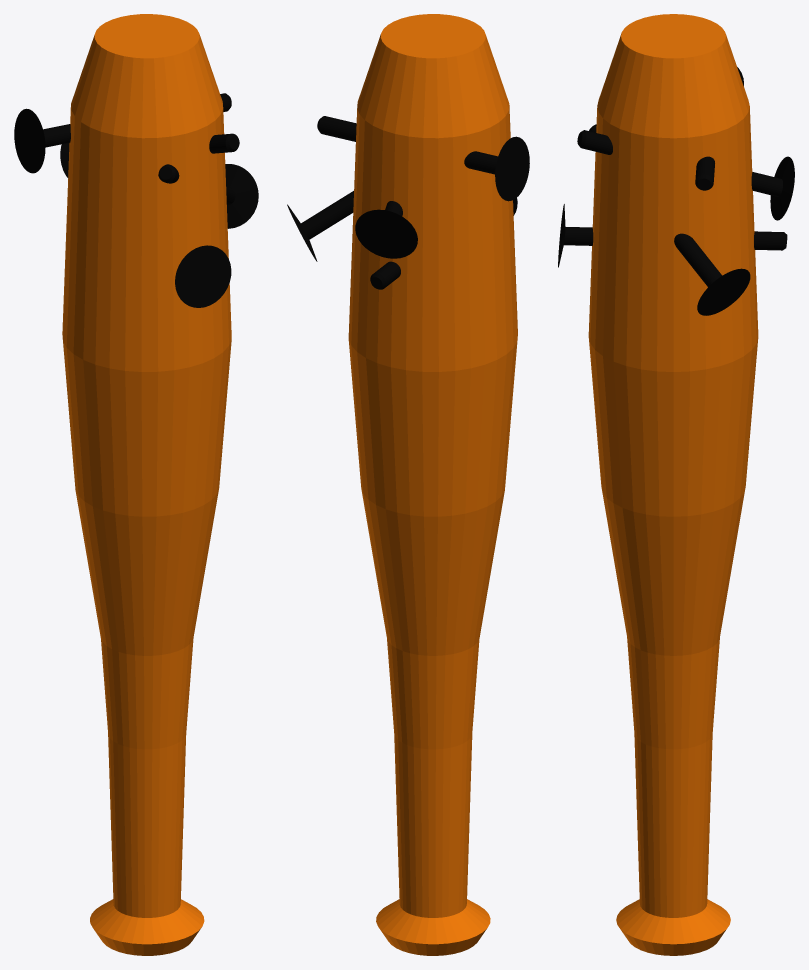
File: Bat.fbx
3 renders of one model, left to right at view 1: azimuth 30°, elevation 25°; view 2: azimuth 150°, elevation 25°; view 3: azimuth 270°, elevation 25°, orthographic.
Parts seen in each view (by area): view 1: Bat, Nail, Nail.001, Nail.002, Nail.003; view 2: Bat, Nail.001, Nail.003, Nail.002, Nail; view 3: Bat, Nail.002, Nail.003, Nail, Nail.001.
Part boxes in pixels (x1,y1,x2,y2): Bat: (62, 14, 231, 955); Nail: (175, 245, 231, 307); Nail.001: (14, 93, 231, 173); Nail.002: (158, 164, 258, 228); Nail.003: (60, 133, 239, 178); Bat: (348, 14, 517, 955); Nail.001: (317, 116, 529, 201); Nail.003: (355, 201, 417, 258); Nail.002: (287, 191, 353, 261); Nail: (370, 198, 517, 289); Bat: (588, 14, 758, 955); Nail.002: (589, 124, 750, 315); Nail.003: (577, 130, 794, 220); Nail: (558, 204, 787, 267); Nail.001: (695, 67, 743, 190).
Bounding box in the file's own units: 34.76 × 132 × 31.36.
